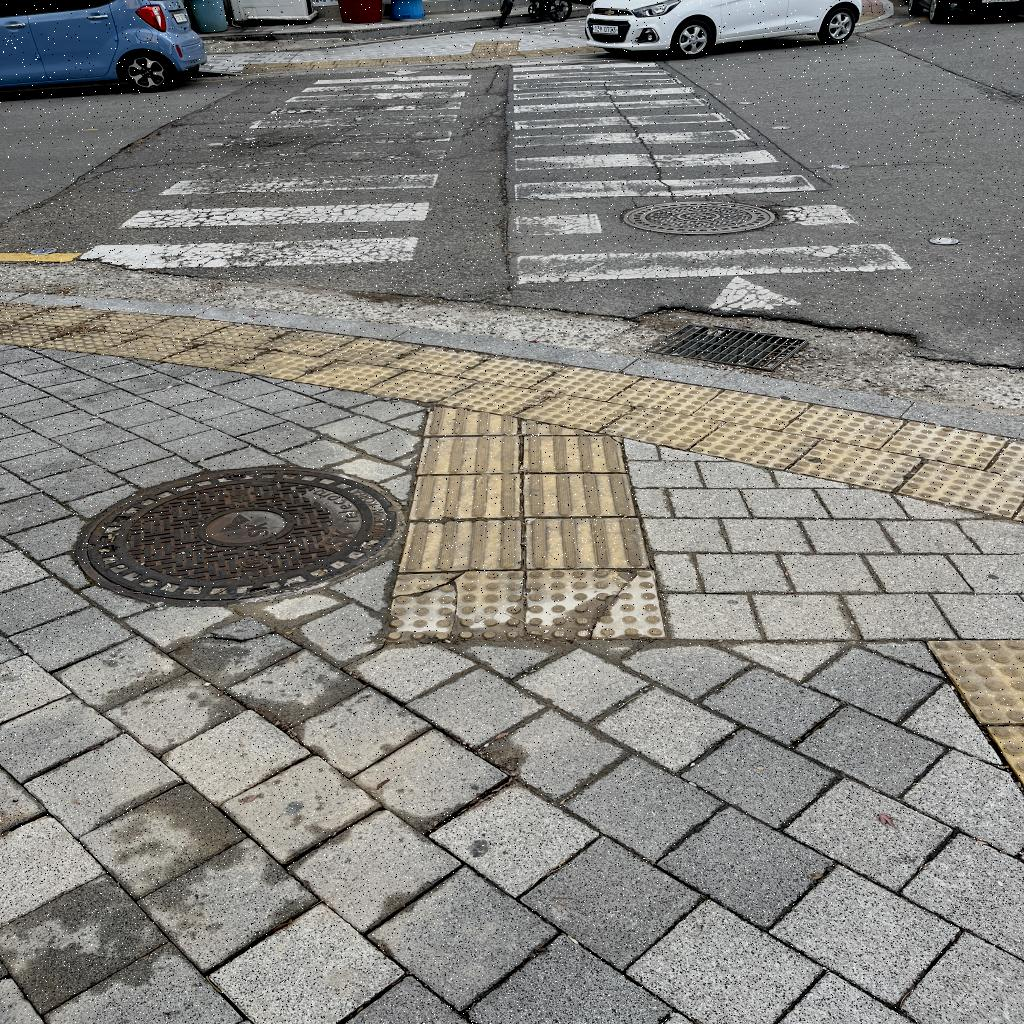Stop block broken: (385, 571, 525, 642), (526, 570, 664, 637)
Stop block normal: (690, 416, 817, 476), (518, 388, 631, 437), (366, 364, 476, 409)
Straight block normal: (407, 474, 521, 520)
